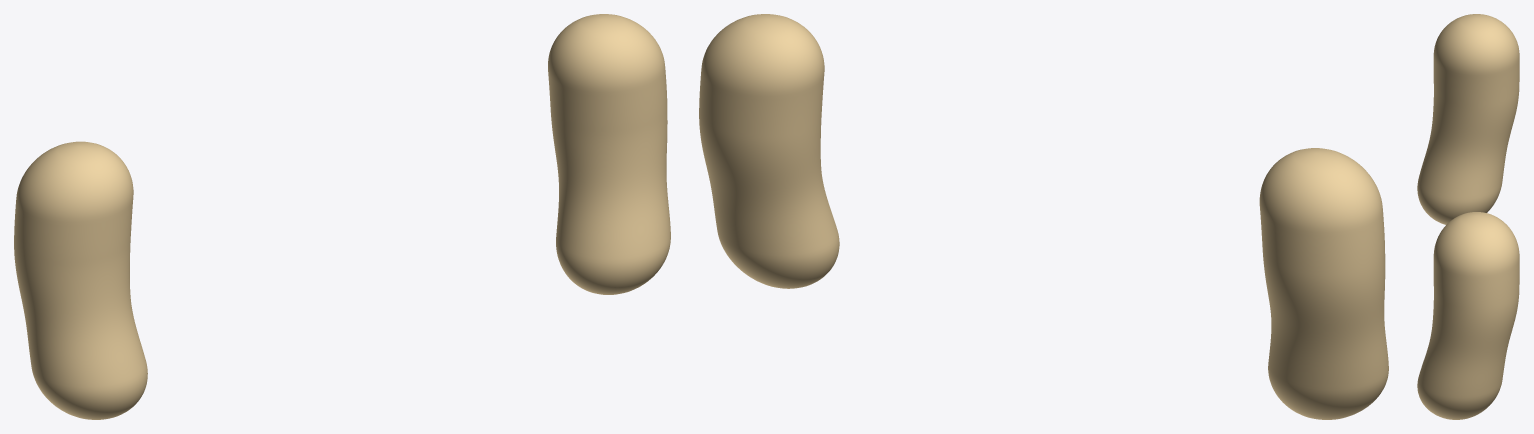
File: Feminine-arms.glb
3 renders of one model, left to right at view 1: azimuth 30°, elevation 25°; view 2: azimuth 150°, elevation 25°; view 3: azimuth 270°, elevation 25°, orthographic. The views are drawn at different scales.
Parts seen in each view (by area): view 1: Skin / floating arm 1, Skin / floating arm -1; view 2: Skin / floating arm 1, Skin / floating arm -1; view 3: Skin / floating arm 1, Skin / floating arm -1.
Boxes of the visible parts, x1,y1,x2,y2 form: Skin / floating arm 1: [548, 14, 670, 294]; Skin / floating arm -1: [14, 141, 147, 419]; Skin / floating arm 1: [699, 14, 839, 288]; Skin / floating arm -1: [1259, 148, 1388, 419]; Skin / floating arm 1: [1417, 212, 1519, 419]; Skin / floating arm -1: [1417, 14, 1519, 224].
Size of the model in its own units: 1.11 by 0.432 by 0.1992.
